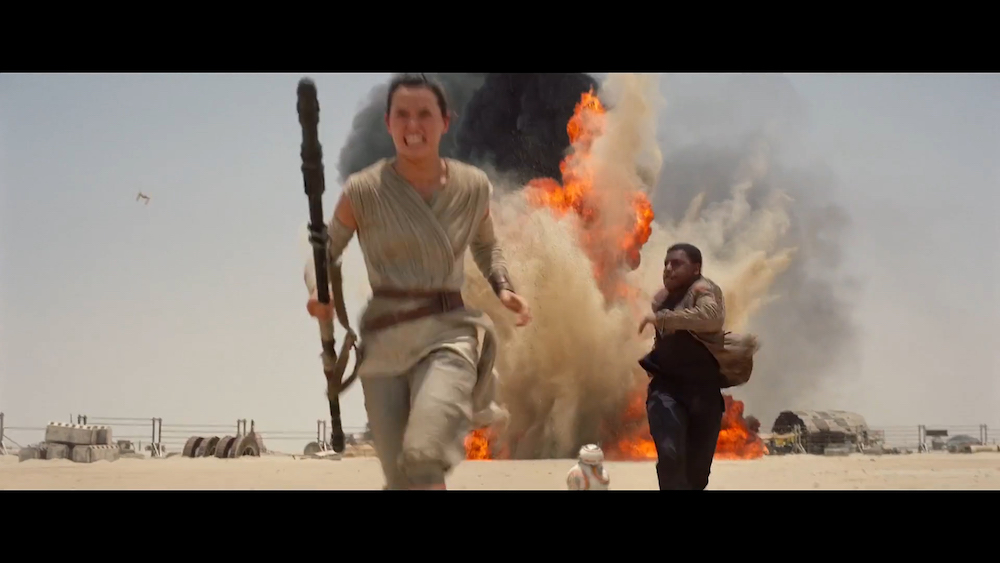Tie Fighter: (138, 189, 153, 206)
